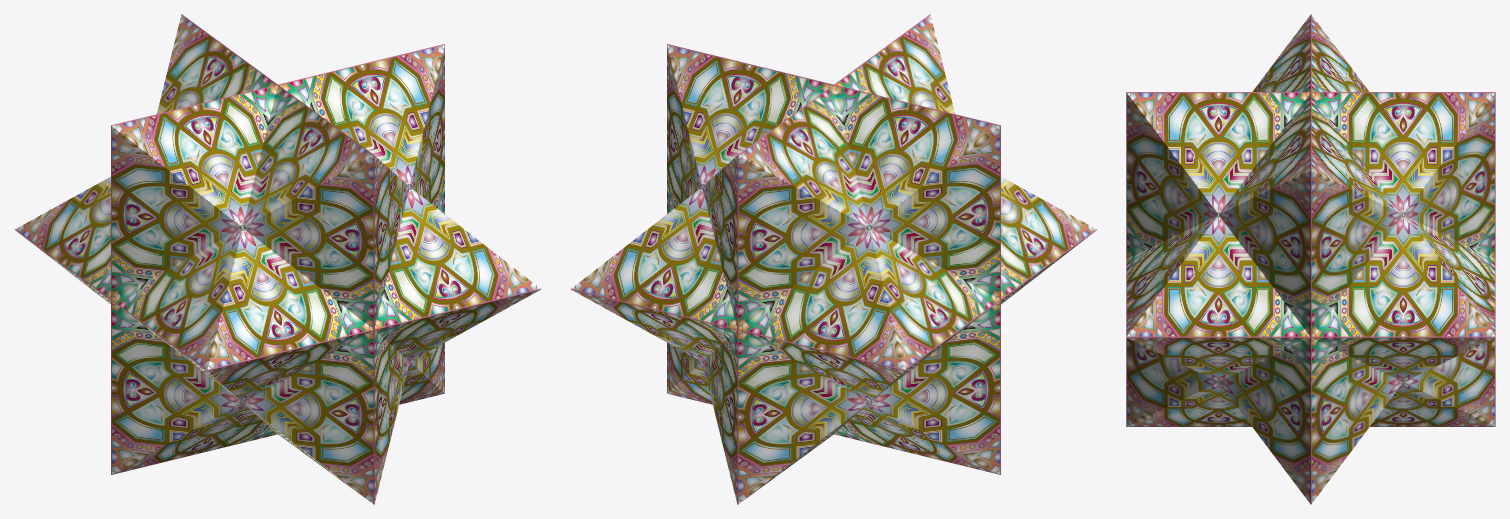
File: 6Escher.obj
3 views of the same model, side by side, from view 1: azimuth 30°, elevation 25°; view 2: azimuth 150°, elevation 25°; view 3: azimuth 270°, elevation 25° (orthographic). The views are drawn at different scales.
Size of the model in its own units: 2 by 2 by 2.
Materials: 1 (1 with a texture image).
